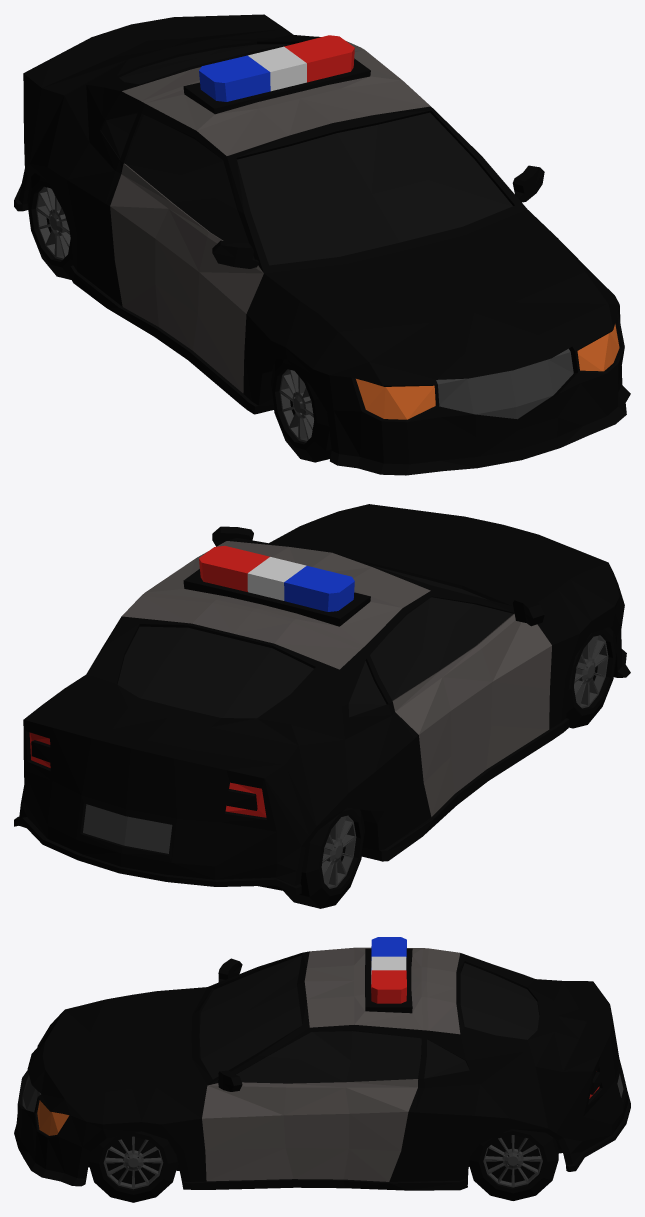
Rendered from Cop_v1.obj.
3 renders of one model, top to bottom at view 1: azimuth 30°, elevation 25°; view 2: azimuth 150°, elevation 25°; view 3: azimuth 270°, elevation 25°, orthographic. The views are drawn at different scales.
Parts seen in each view (by area): view 1: Cop, Cop_FrontRightWheel, Cop_BackWheels; view 2: Cop, Cop_BackWheels, Cop_FrontRightWheel; view 3: Cop, Cop_BackWheels, Cop_FrontLeftWheel.
Part boxes in pixels (x1=…): Cop: x1=14, y1=14, x2=630, y2=475; Cop_FrontRightWheel: x1=270, y1=358, x2=331, y2=462; Cop_BackWheels: x1=27, y1=173, x2=73, y2=279; Cop: x1=14, y1=504, x2=630, y2=895; Cop_BackWheels: x1=283, y1=807, x2=364, y2=908; Cop_FrontRightWheel: x1=566, y1=627, x2=617, y2=728; Cop: x1=14, y1=937, x2=630, y2=1190; Cop_BackWheels: x1=469, y1=1129, x2=558, y2=1200; Cop_FrontLeftWheel: x1=88, y1=1131, x2=178, y2=1202.
Size of the model in its own units: 1.78 by 1.24 by 3.73.
